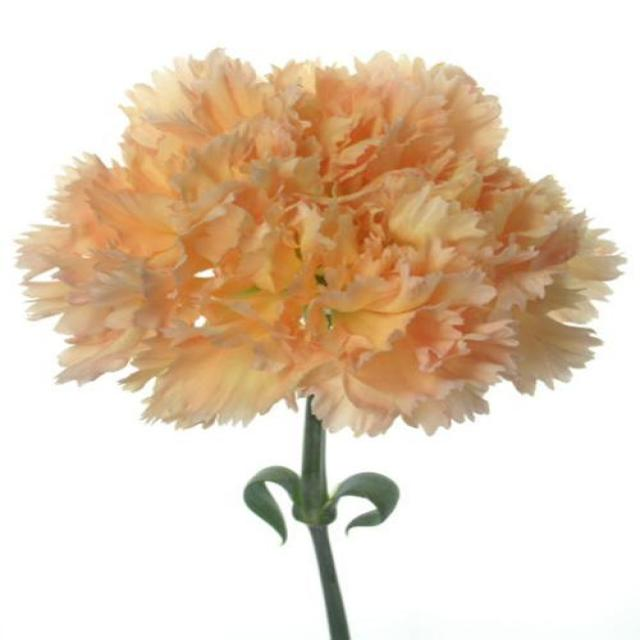carnation: (31, 33, 614, 451)
